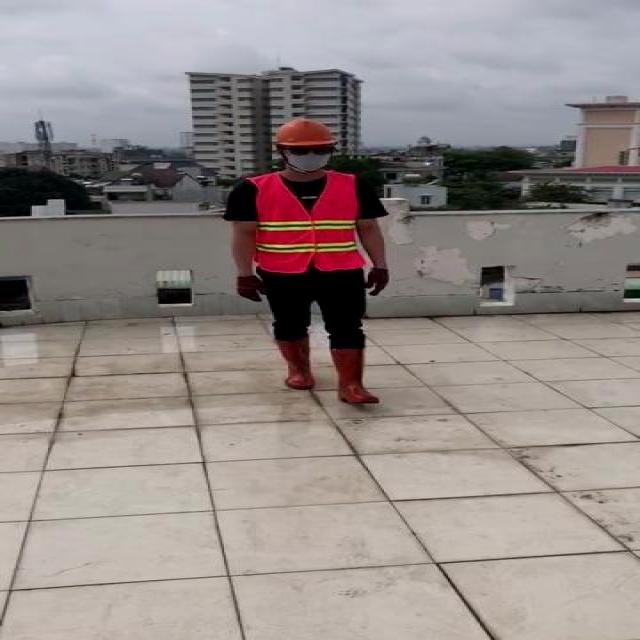boots: (327, 347, 375, 403), (277, 338, 315, 388)
face_mask: (284, 143, 334, 171)
glasses: (286, 143, 334, 158)
hand_glove: (236, 276, 268, 302), (366, 269, 388, 295)
head_helmet: (270, 118, 338, 147)
person: (220, 118, 399, 410)
vest: (249, 174, 370, 273)
